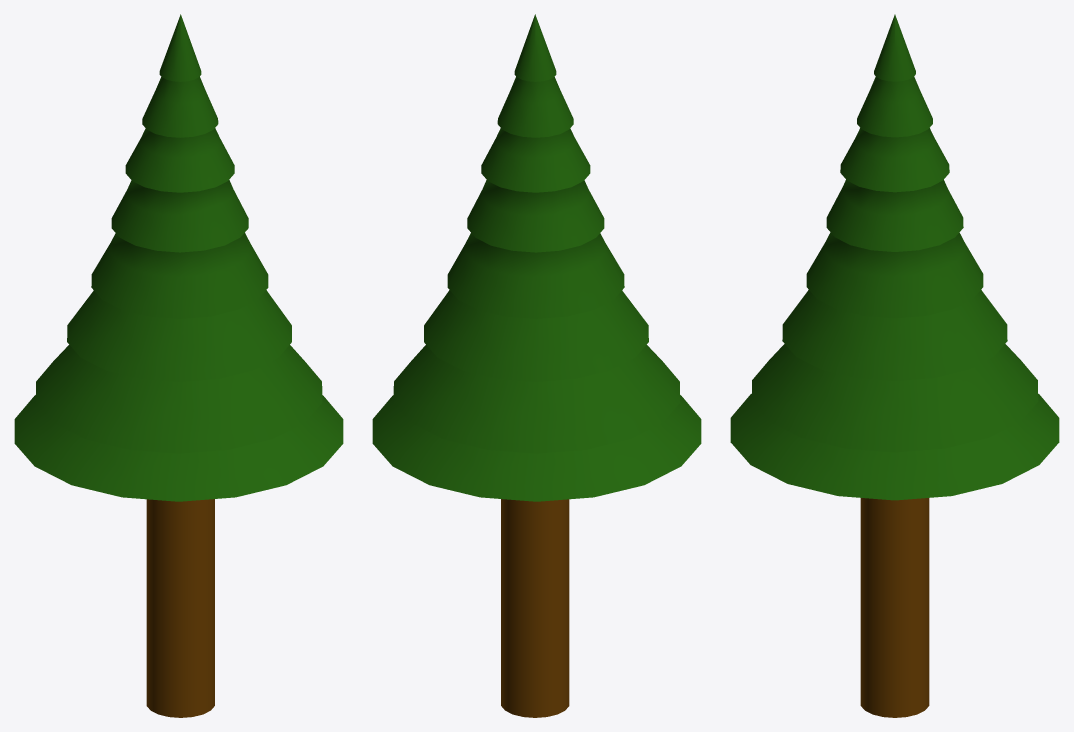
File: Pine.fbx
The picture shows the model from 3 angles, left to right: view 1: azimuth 30°, elevation 25°; view 2: azimuth 150°, elevation 25°; view 3: azimuth 270°, elevation 25°; orthographic projection.
Parts seen in each view (by area): view 1: Cone; view 2: Cone; view 3: Cone.
Boxes of the visible parts, box(x1,y1,x2,y2) form: Cone: box(14, 14, 343, 717); Cone: box(372, 14, 701, 717); Cone: box(730, 14, 1059, 717).
Bounding box in the file's own units: 151 × 343 × 149.
